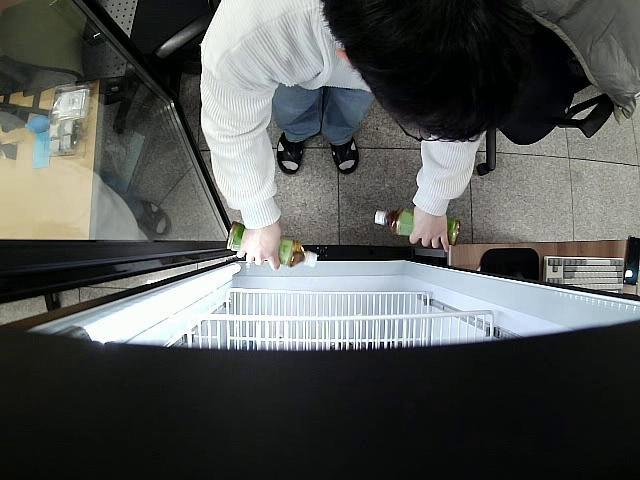19_17cha: (228, 221, 316, 270), (374, 206, 462, 246)
